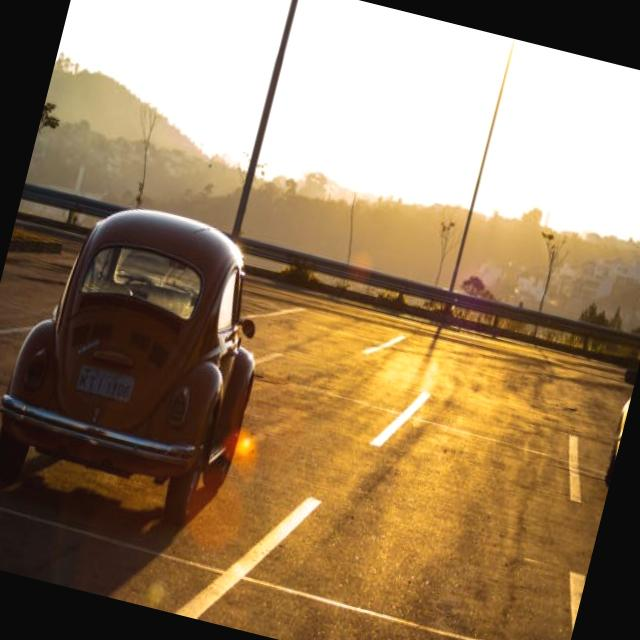car: (0, 180, 291, 531)
